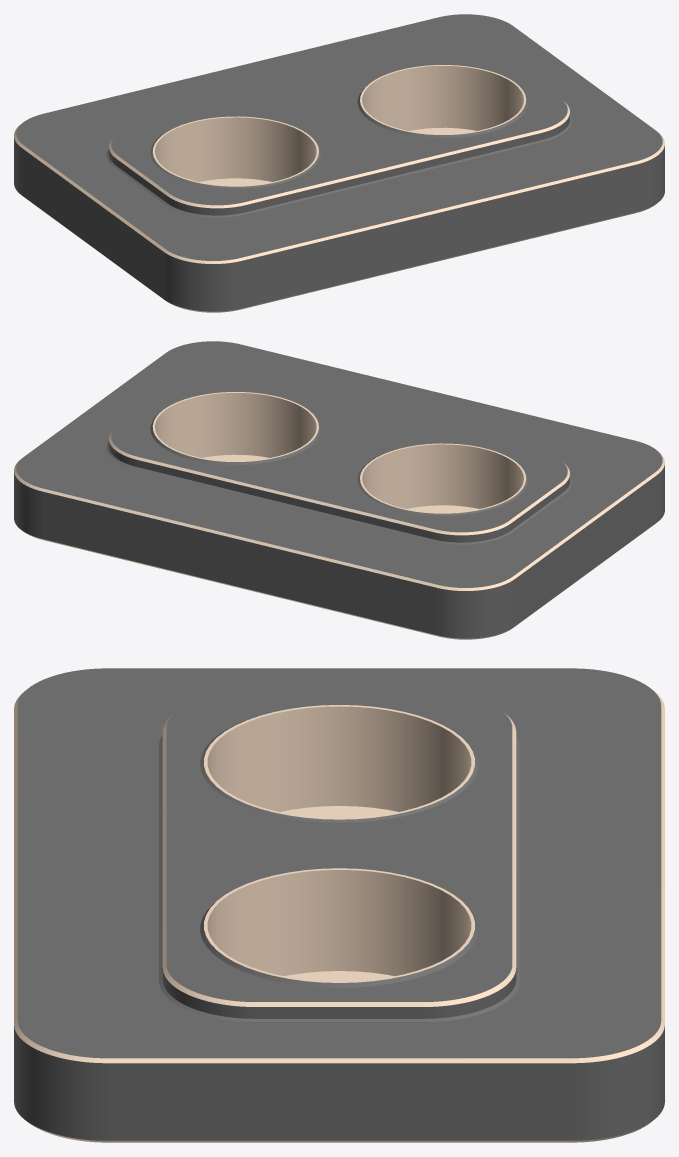
The model's file is TwoButtonCase.fbx.
The picture shows the model from 3 angles, top to bottom: view 1: azimuth 30°, elevation 25°; view 2: azimuth 150°, elevation 25°; view 3: azimuth 270°, elevation 25°; orthographic projection. The views are drawn at different scales.
Parts seen in each view (by area): view 1: Model; view 2: Model; view 3: Model.
Boxes of the visible parts, left/top/right/bottom form: Model: left=14, top=14, right=664, bottom=312; Model: left=14, top=341, right=664, bottom=639; Model: left=14, top=668, right=664, bottom=1142.
Size of the model in its own units: 500 by 62 by 350.
